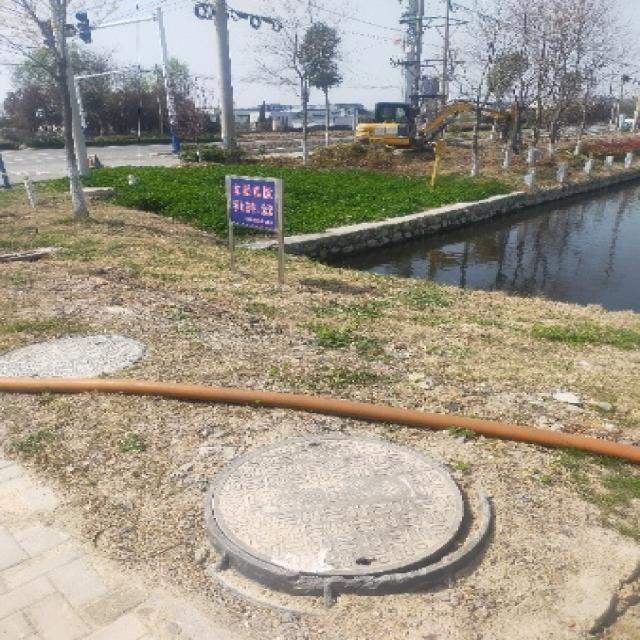Good: (3, 309, 165, 412)
Lose: (190, 430, 518, 612)
